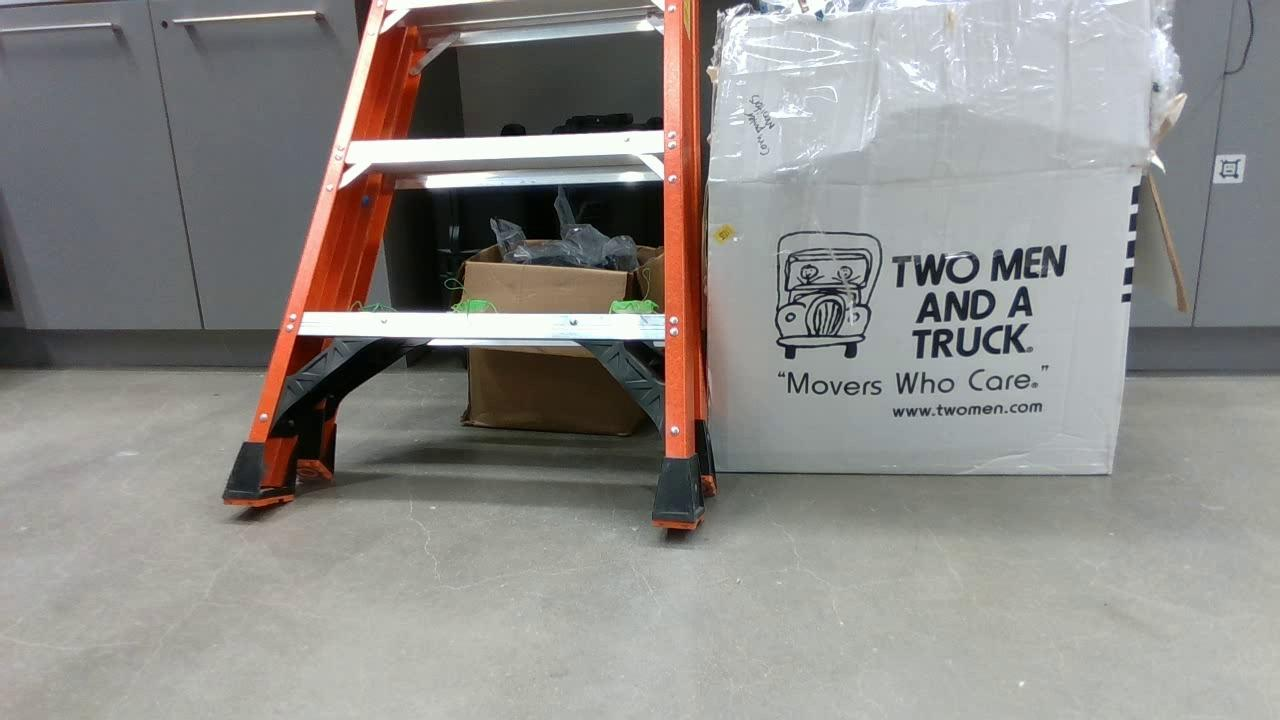grasshopper: (611, 298, 656, 320), (448, 301, 495, 318)
